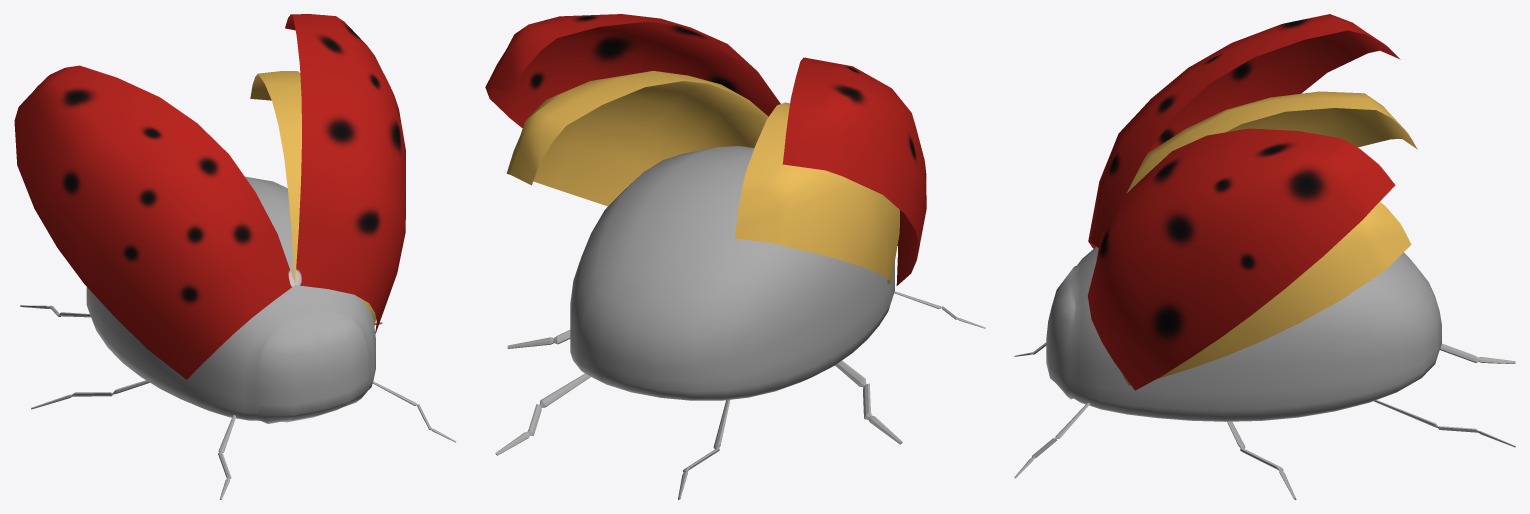
File: Mariquita2.fbx
3 renders of one model, left to right at view 1: azimuth 30°, elevation 25°; view 2: azimuth 150°, elevation 25°; view 3: azimuth 270°, elevation 25°, orthographic. The views are drawn at different scales.
Parts seen in each view (by area): view 1: Plane.002, Cube, Plane.003, Cylinder, Cylinder.001; view 2: Cube, Plane.003, Plane.002, Cylinder.002, Cylinder.001; view 3: Plane.002, Cube, Plane.003, Cylinder.002, Cylinder.
Boxes of the visible parts, bbox=[...] form: Plane.002: bbox=[14, 14, 405, 379]; Cube: bbox=[86, 176, 375, 423]; Plane.003: bbox=[250, 71, 375, 326]; Cylinder: bbox=[218, 381, 456, 499]; Cylinder.001: bbox=[31, 322, 382, 409]; Cube: bbox=[570, 146, 894, 400]; Plane.003: bbox=[506, 71, 899, 284]; Plane.002: bbox=[485, 14, 926, 285]; Cylinder.002: bbox=[495, 373, 730, 499]; Cylinder.001: bbox=[507, 330, 902, 444]; Plane.002: bbox=[1087, 14, 1400, 390]; Cube: bbox=[1046, 246, 1441, 421]; Plane.003: bbox=[1122, 91, 1417, 385]; Cylinder.002: bbox=[1374, 343, 1515, 447]; Cylinder: bbox=[1014, 342, 1089, 478].
Bounding box in the file's own units: 350 × 299 × 405.
